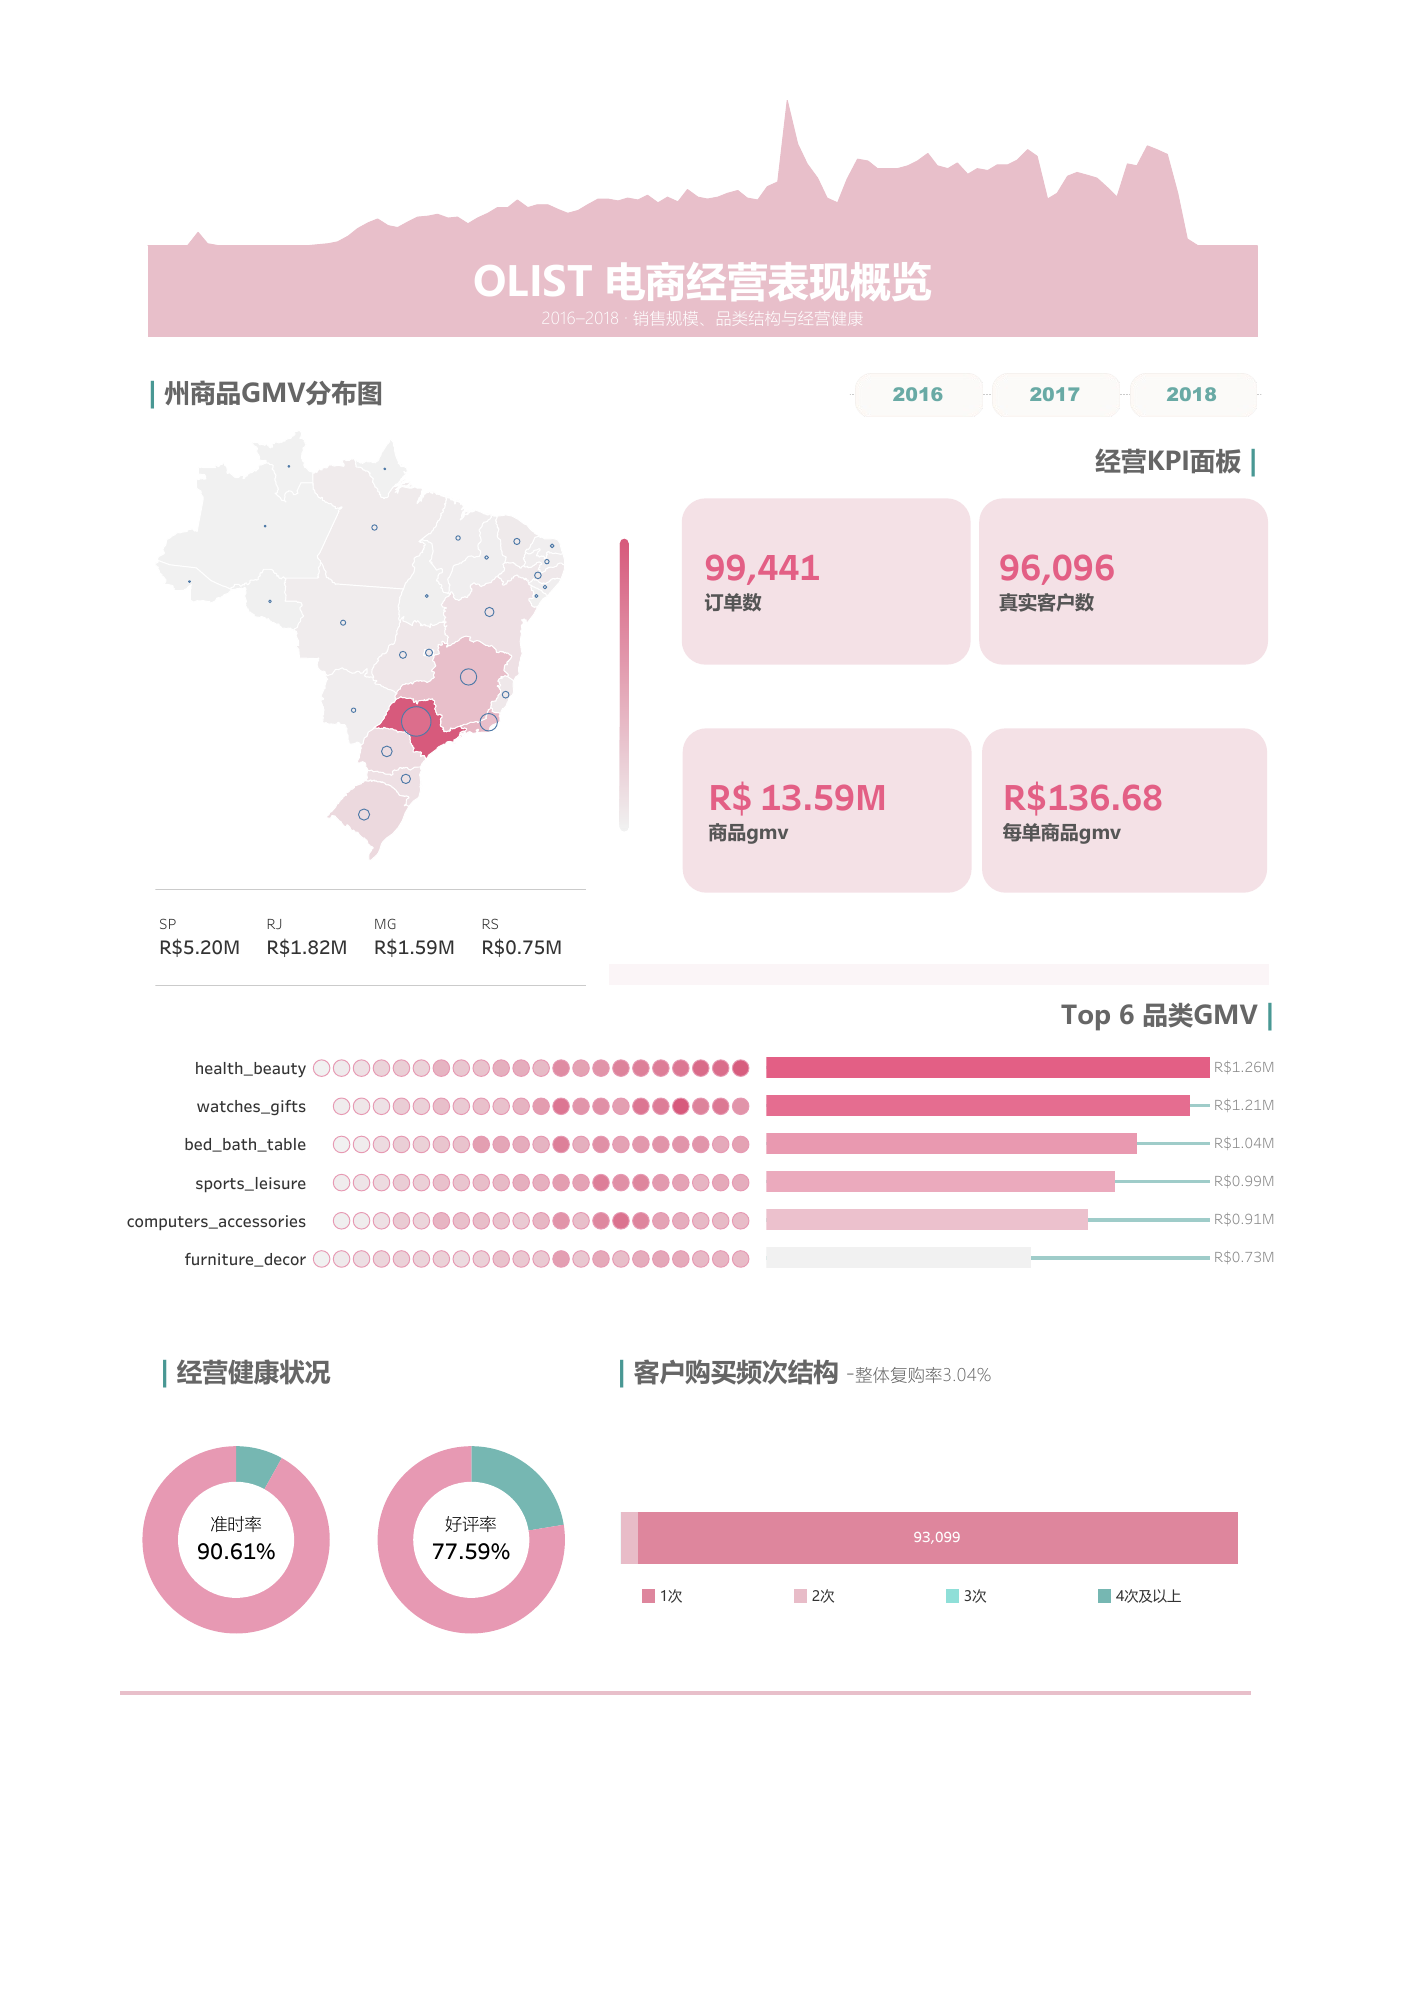

The page's visual inventory and layout, read from the dashboard file:
{"tool":"tableau","page":{"name":"OLIST 电商经营表现概览","canvas":[1300,1800],"ordinal":0},"visuals":[{"type":"worksheet","title":"订单数","mark":"Area","rows":["Calculation_2928857776259079"],"cols":["下单时间"],"box":[8,8,1284,161]},{"type":"text","box":[8,169,1284,96]},{"type":"worksheet","title":"年份筛选","mark":"Shape","rows":["Calculation_0958532959338497"],"cols":["下单时间"],"box":[805,263,433,125]},{"type":"text","box":[63,306,282,34]},{"type":"worksheet","title":"州地图","mark":"Multipolygon","box":[70,327,462,516]},{"type":"worksheet","title":"图例","mark":"Line","rows":["商品GMV"],"box":[532,327,74,477]},{"type":"text","box":[1060,355,244,80]},{"type":"worksheet","title":"1","mark":"Automatic","box":[624,431,313,495]},{"type":"worksheet","title":"2","mark":"Automatic","box":[937,431,313,495]},{"type":"worksheet","title":"3","mark":"Automatic","box":[625,673,314.5,547]},{"type":"worksheet","title":"4","mark":"Automatic","box":[939.5,673,314.5,547]},{"type":"worksheet","title":"州前四","mark":"Automatic","cols":["客户州代码 (olist_order_facts_tableau.csv)"],"box":[70,843,462,110]},{"type":"text","box":[551,925,695,22]},{"type":"text","box":[1024,960,250,36]},{"type":"worksheet","title":"品类热力图","mark":"Circle","rows":["品类"],"cols":["下单月份","下单时间"],"box":[14,1010,699,249]},{"type":"text","box":[72,1281,481,144]},{"type":"text","box":[553,1281,572,144]},{"type":"worksheet","title":"准时率","mark":"Pie","cols":["Calculation_1233686133223449","Calculation_1233686133223449"],"box":[26,1329,266,404]},{"type":"worksheet","title":"好评率","mark":"Pie","cols":["Calculation_1233686133223449","Calculation_1233686133223449"],"box":[292,1329,229,404]},{"type":"worksheet","title":"购买频次堆叠图","mark":"Bar","rows":["Calculation_1233686128975895"],"cols":["真实客户ID"],"box":[521,1329,727,404]},{"type":"legend","title":"购买频次堆叠图","param":"[federated.1mngaof1p0jy7q18zqwwg19qr4xz].[none:Calculation_1233686127661077:nk]","box":[583,1580,659,106]},{"type":"text","box":[37,1690,1190,4]}]}

Visuals, with their boxes in screenshot pixels (x1, y1, x2, y2), scaled from the page's 1300x1800 canvas onto the 1405x1989 screenshot:
"订单数" worksheet (Area marks): (9, 9, 1396, 187)
text: (9, 187, 1396, 293)
"年份筛选" worksheet (Shape marks): (870, 291, 1338, 429)
text: (68, 338, 373, 376)
"州地图" worksheet (Multipolygon marks): (76, 361, 575, 932)
"图例" worksheet (Line marks): (575, 361, 655, 888)
text: (1146, 392, 1404, 481)
"1" worksheet: (674, 476, 1013, 1023)
"2" worksheet: (1013, 476, 1351, 1023)
"3" worksheet: (675, 744, 1015, 1348)
"4" worksheet: (1015, 744, 1355, 1348)
"州前四" worksheet: (76, 932, 575, 1053)
text: (596, 1022, 1347, 1046)
text: (1107, 1061, 1377, 1101)
"品类热力图" worksheet (Circle marks): (15, 1116, 771, 1391)
text: (78, 1416, 598, 1575)
text: (598, 1416, 1216, 1575)
"准时率" worksheet (Pie marks): (28, 1469, 316, 1915)
"好评率" worksheet (Pie marks): (316, 1469, 563, 1915)
"购买频次堆叠图" worksheet (Bar marks): (563, 1469, 1349, 1915)
"购买频次堆叠图" legend: (630, 1746, 1342, 1863)
text: (40, 1867, 1326, 1872)
